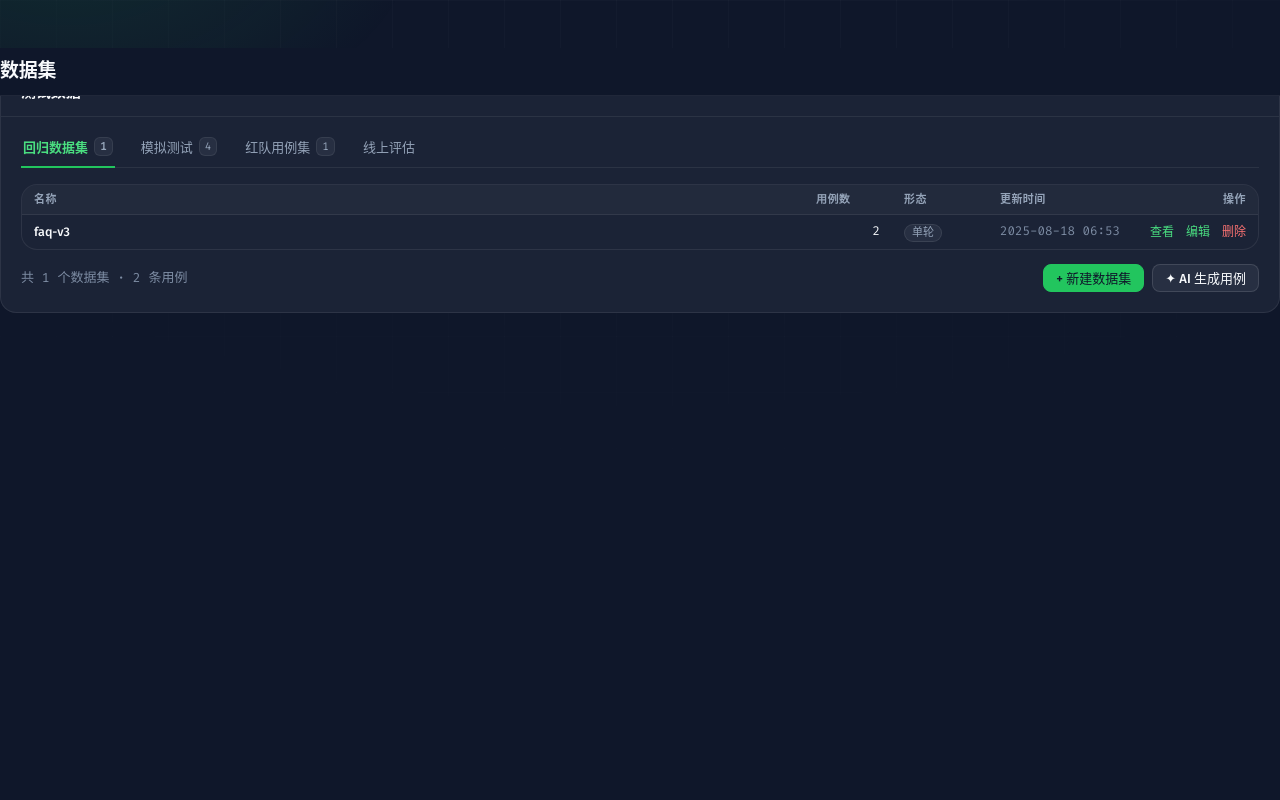
it: 数据集表单抽屉 › 新建走宽档抽屉（760，含 JSON 编辑区），关抽屉后表单卸载
Expected: the row with test id "dataset-row-faq-v3" is shown, [22,215,1258,249]
Click the button with test id "datasets-new" at (1094, 278), box [1043,264,1144,292]
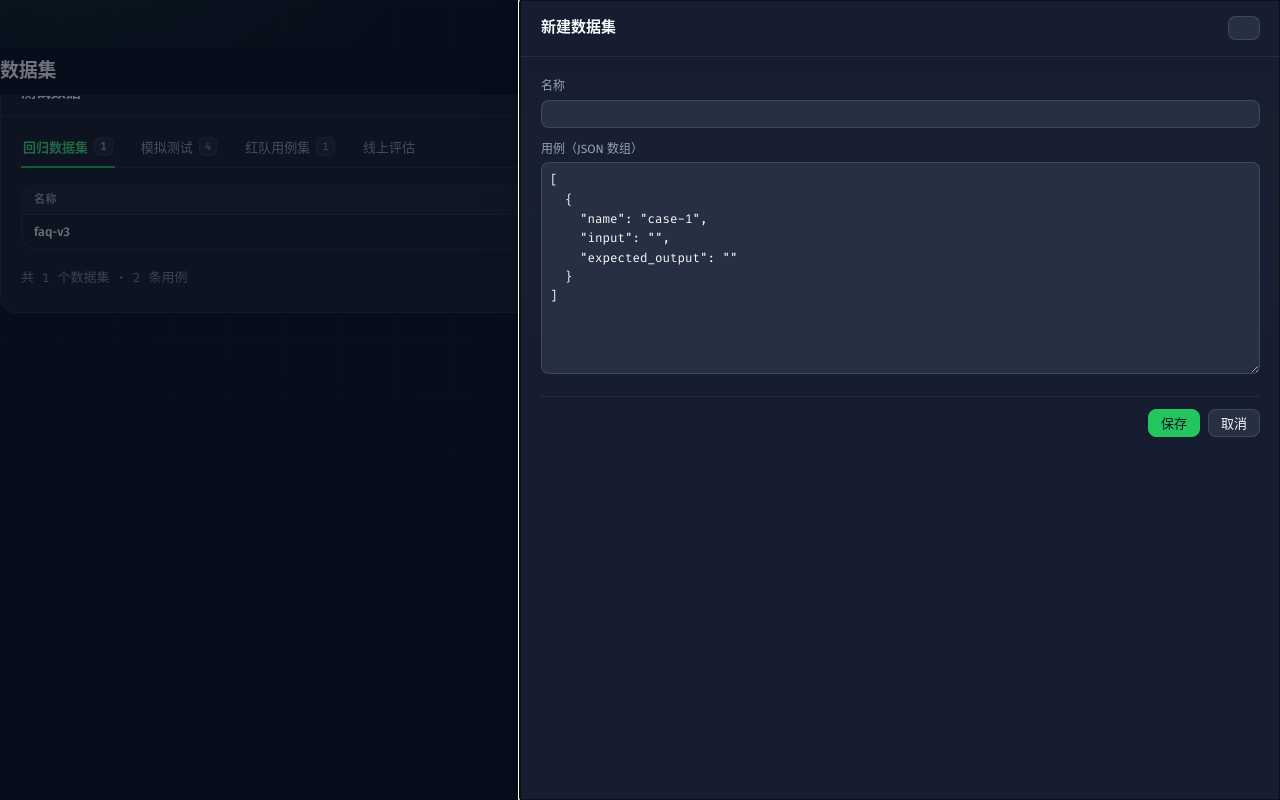
// 未改动 → 直接关，不弹脏确认
Click the button with test id "dataset-form-drawer-close" at (1244, 28), box [1228,16,1260,40]
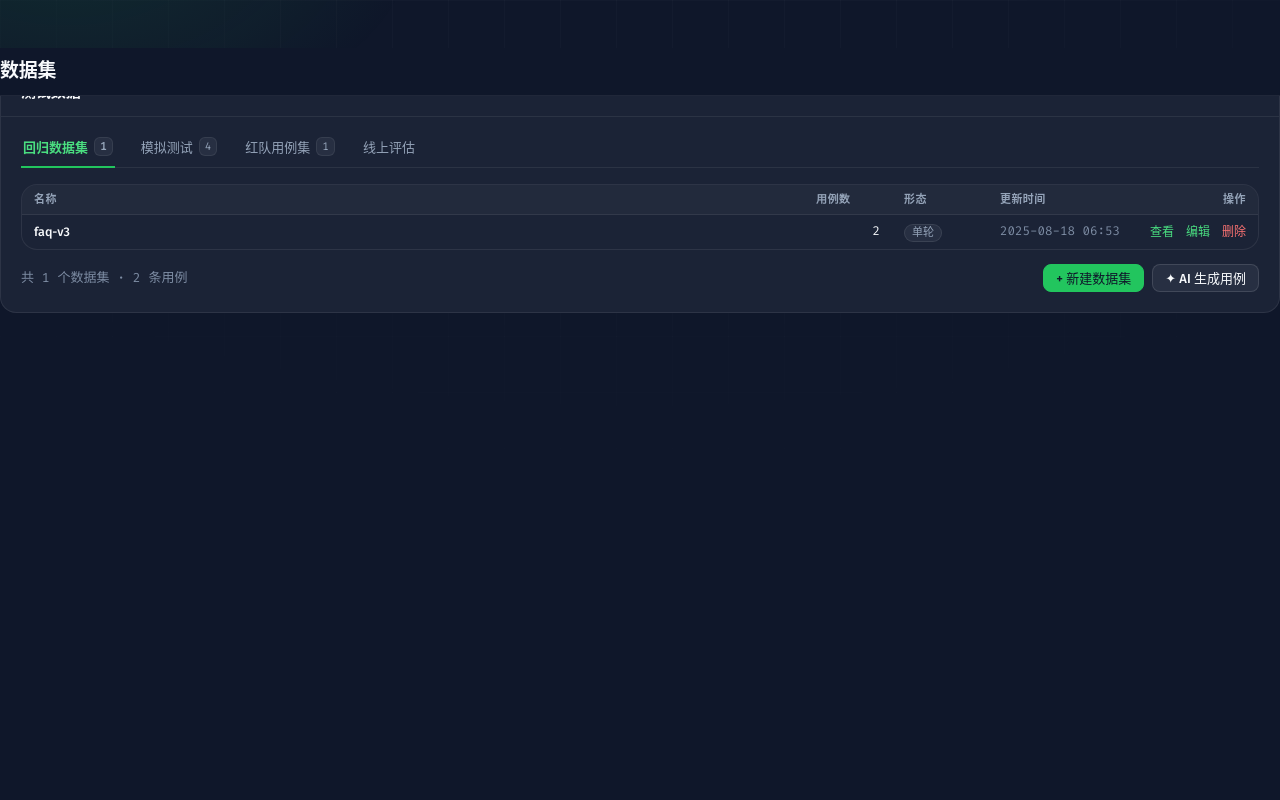
Expected: the element with test id "dataset-form" is gone
